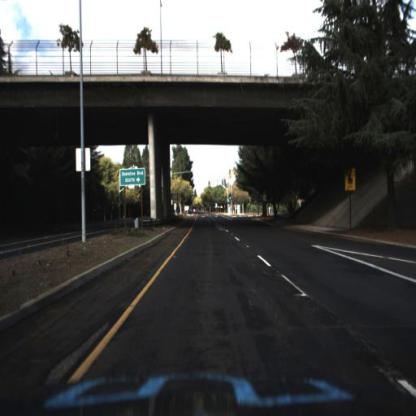trafficLight-Green: (230, 194, 232, 201), (209, 182, 211, 189)
